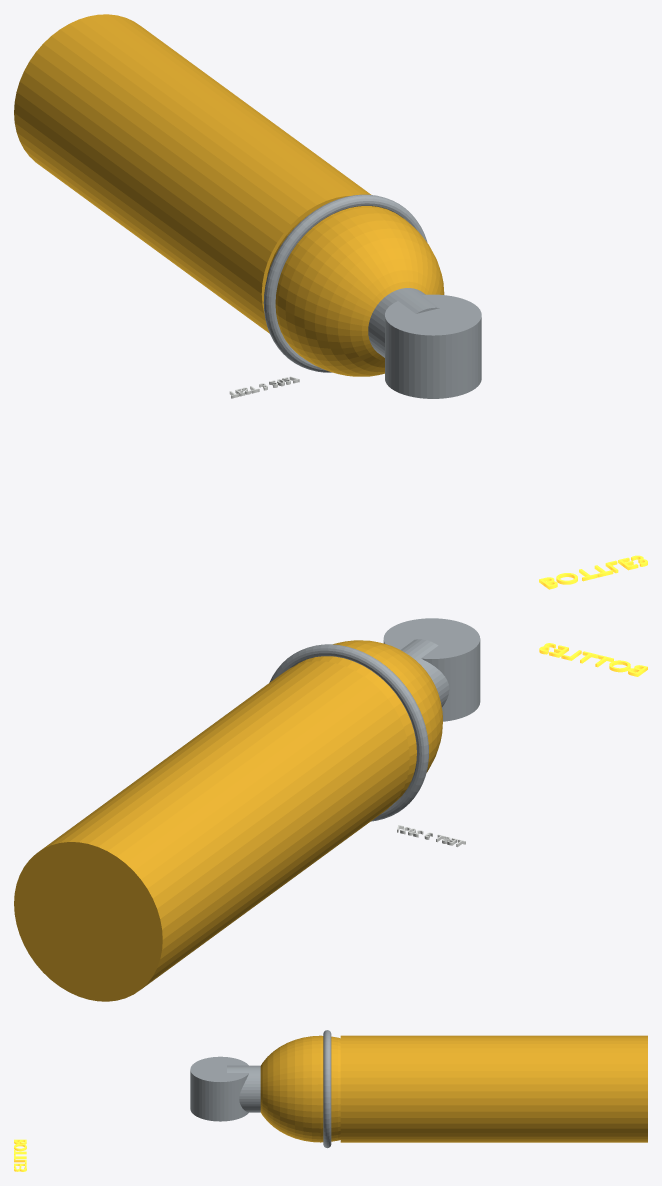
File: BOTTLE3.glb
3 renders of one model, top to bottom at view 1: azimuth 30°, elevation 25°; view 2: azimuth 150°, elevation 25°; view 3: azimuth 270°, elevation 25°, orthographic. The views are drawn at different scales.
Parts seen in each view (by area): view 1: BOTTLE3, BOTTLE3_shoulder, BOTTLE3_valve, BOTTLE3_ring, BOTTLE3_neck, LABEL_BOTTLE3; view 2: BOTTLE3, BOTTLE3_valve, BOTTLE3_shoulder, BOTTLE3_ring, BOTTLE3_neck, LABEL_BOTTLE3; view 3: BOTTLE3, BOTTLE3_shoulder, BOTTLE3_valve, BOTTLE3_ring, BOTTLE3_neck, LABEL_BOTTLE3.
Boxes of the visible parts, x1,y1,x2,y2 form: BOTTLE3: [14, 14, 371, 333]; BOTTLE3_shoulder: [266, 206, 444, 376]; BOTTLE3_valve: [385, 294, 481, 398]; BOTTLE3_ring: [263, 194, 427, 372]; BOTTLE3_neck: [368, 288, 439, 357]; LABEL_BOTTLE3: [539, 555, 647, 589]; BOTTLE3: [14, 661, 409, 1001]; BOTTLE3_valve: [383, 618, 480, 721]; BOTTLE3_shoulder: [295, 640, 442, 801]; BOTTLE3_ring: [269, 644, 428, 821]; BOTTLE3_neck: [401, 639, 449, 706]; LABEL_BOTTLE3: [539, 643, 647, 676]; BOTTLE3: [340, 1035, 647, 1142]; BOTTLE3_shoulder: [260, 1035, 340, 1142]; BOTTLE3_valve: [190, 1056, 248, 1121]; BOTTLE3_ring: [323, 1030, 331, 1148]; BOTTLE3_neck: [227, 1065, 260, 1112]; LABEL_BOTTLE3: [14, 1139, 26, 1171].
Size of the model in its own units: 0.4296 by 0.4 by 1.9.
